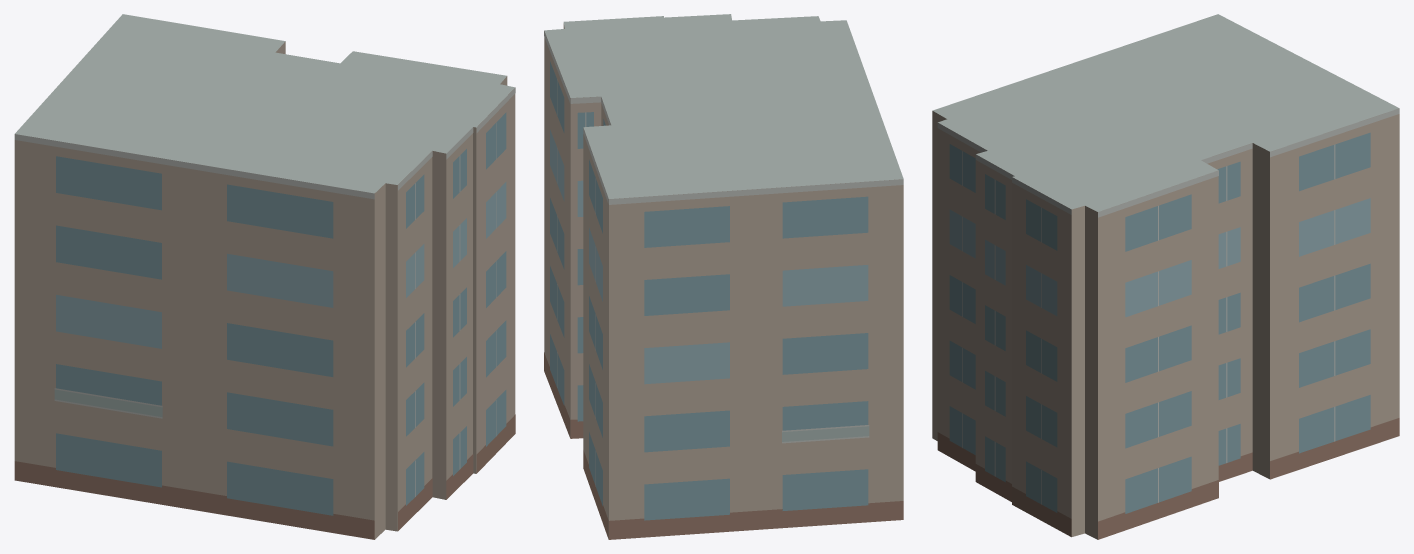
File: survey-upis-32916157.glb
3 renders of one model, left to right at view 1: azimuth 30°, elevation 25°; view 2: azimuth 150°, elevation 25°; view 3: azimuth 270°, elevation 25°, orthographic. The views are drawn at different scales.
Visible parts, largest first — view 1: survey-upis-32916157.tmp; view 2: survey-upis-32916157.tmp; view 3: survey-upis-32916157.tmp.
Boxes of the visible parts, bbox=[...] form: survey-upis-32916157.tmp: bbox=[14, 14, 515, 539]; survey-upis-32916157.tmp: bbox=[544, 14, 903, 539]; survey-upis-32916157.tmp: bbox=[932, 14, 1399, 539].
Size of the model in its own units: 18.42 by 14.2 by 18.35.
